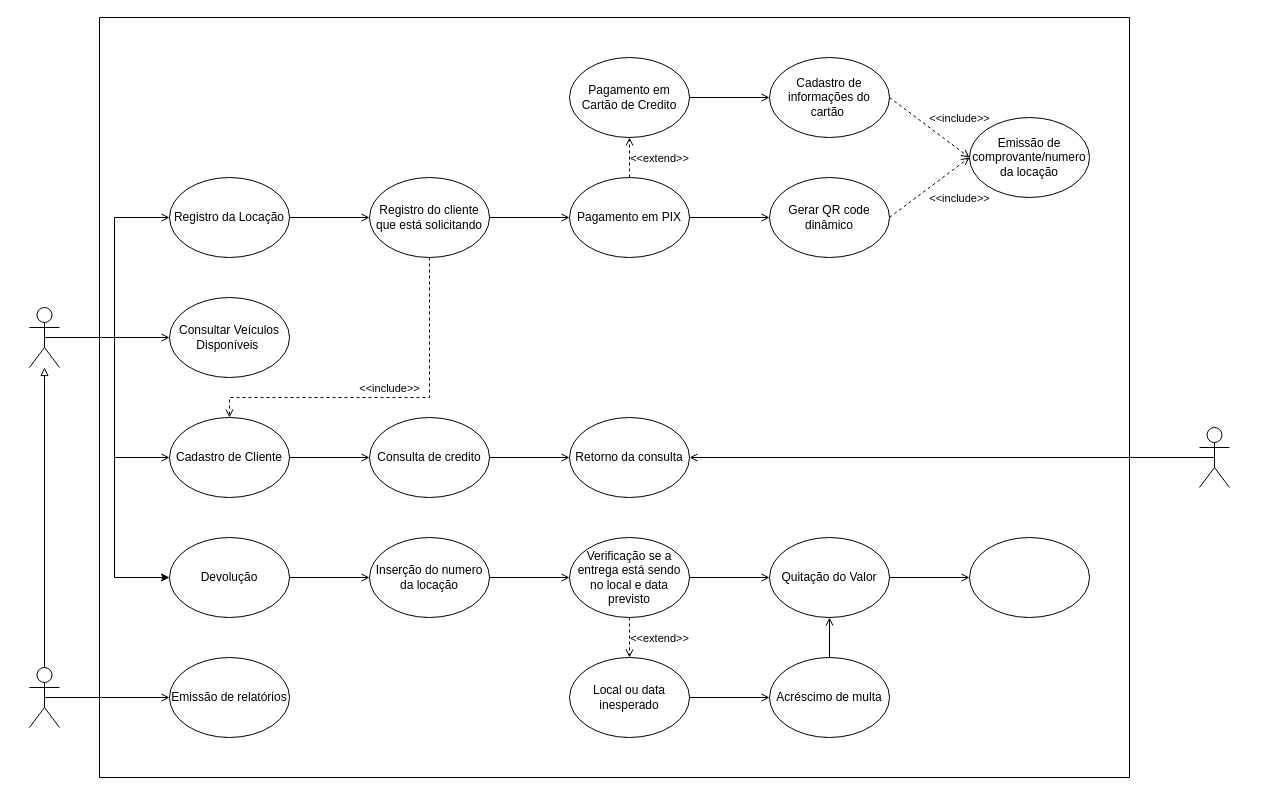
Image size: 1266x795. Some labels were removed from this diagram. Each missing label, with the centre of its shape:
Actor: the point at 44,697
Atendente: the point at 44,337
Emissão de nota fiscal: the point at 1029,577
Serasa (API): the point at 1214,457
